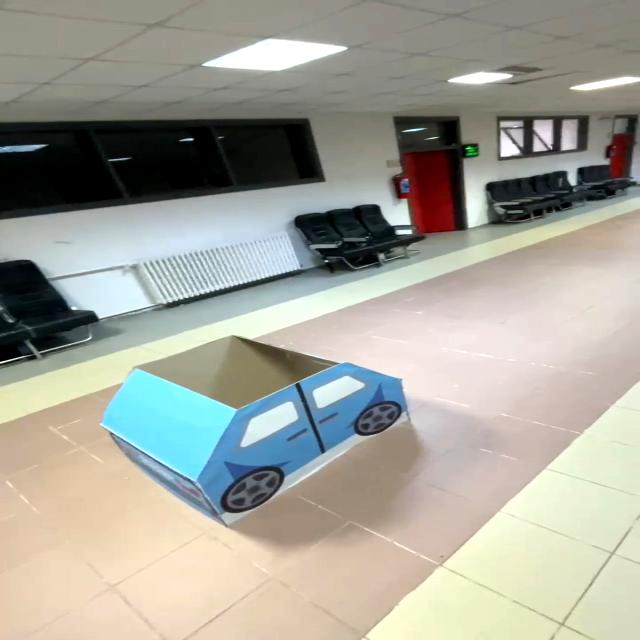blue_car: (74, 321, 452, 537)
